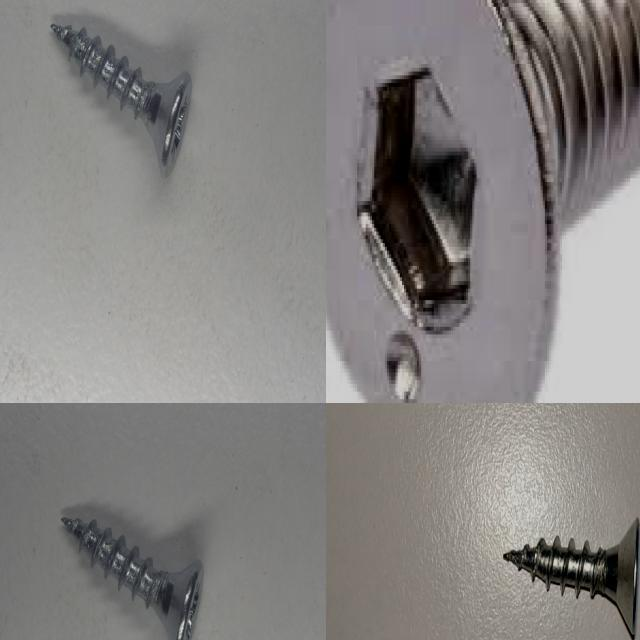Screw: (326, 0, 640, 403), (45, 22, 193, 182), (62, 516, 204, 640), (503, 517, 640, 639)
